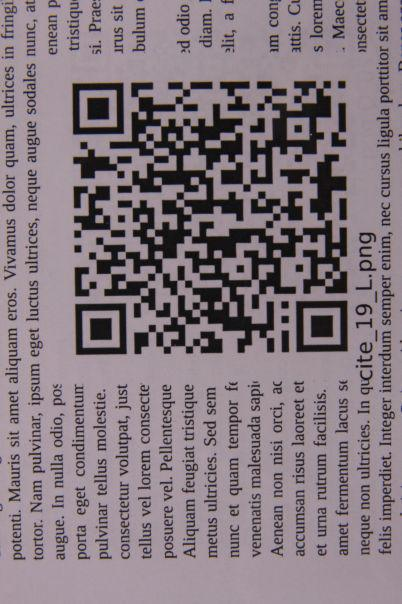Finder pattern: (290, 295, 356, 357), (70, 297, 132, 360), (68, 80, 128, 137)
